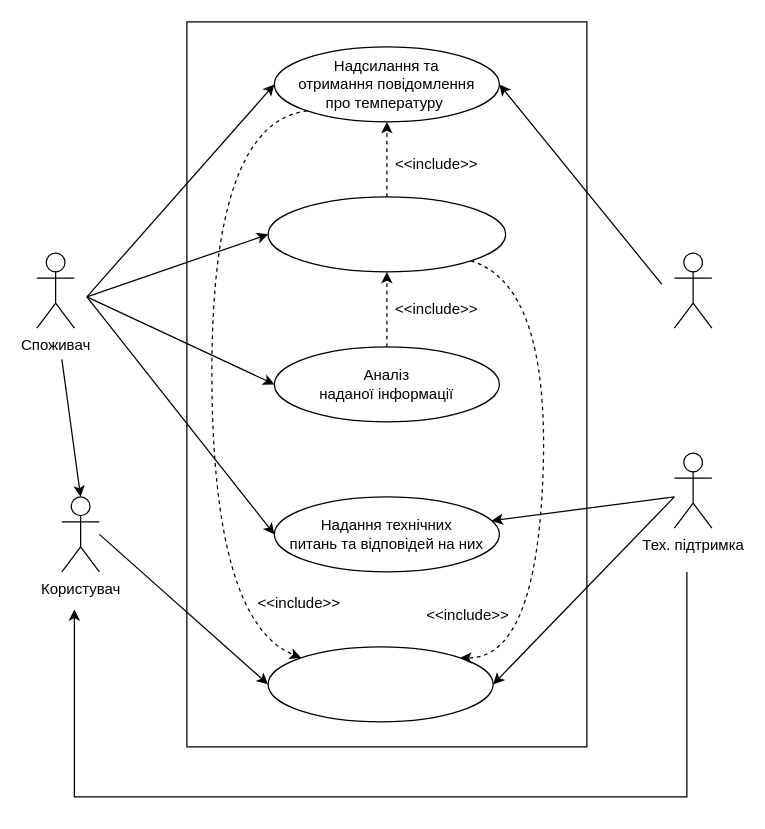
Some shapes in this 765 by 829 pixel diagram are drawn without their labels. Here are the shapes that lost their labels. From the top down, the centre of each, then its label:
At pixel 386 234: "Отримання повідомлення про можливу роздратованість".
At pixel 692 290: "World Weather Organization".
At pixel 380 684: "Авторизація".
